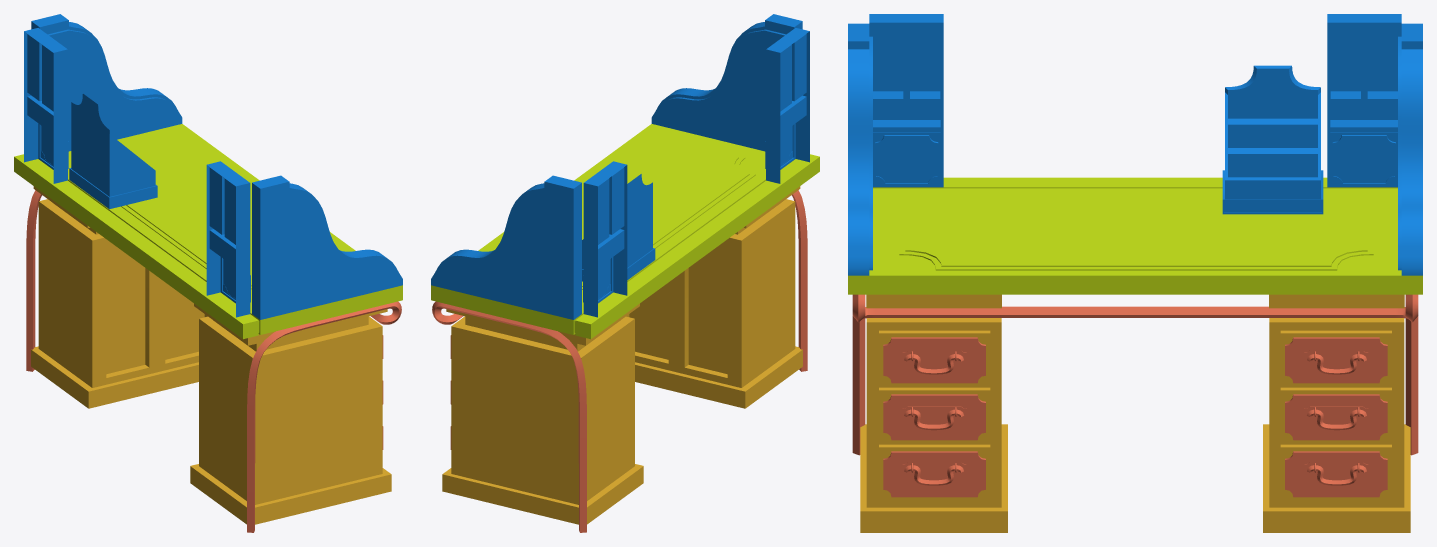
File: desk_low.fbx
3 views of the same model, side by side, from view 1: azimuth 30°, elevation 25°; view 2: azimuth 150°, elevation 25°; view 3: azimuth 270°, elevation 25° (orthographic). The views are drawn at different scales.
Parts seen in each view (by area): view 1: desk.004_low, desk.001_low, desk_low, desk.002_low, desk.008_low, desk.006_low, desk.009_low; view 2: desk.004_low, desk.001_low, desk_low, desk.002_low, desk.008_low, desk.009_low, desk.006_low; view 3: desk.004_low, desk.008_low, desk_low, desk.005_low, desk.002_low, desk.006_low, desk.001_low, desk.009_low, desk.003_low, desk.010_low, desk.007_low.
Boxes of the visible parts, x1=… form: desk.004_low: x1=31, y1=186, x2=391, y2=524; desk.001_low: x1=31, y1=14, x2=402, y2=319; desk_low: x1=14, y1=124, x2=402, y2=339; desk.002_low: x1=24, y1=28, x2=250, y2=317; desk.008_low: x1=121, y1=139, x2=346, y2=289; desk.006_low: x1=69, y1=94, x2=157, y2=209; desk.009_low: x1=26, y1=190, x2=401, y2=532; desk.004_low: x1=442, y1=186, x2=802, y2=524; desk.001_low: x1=431, y1=14, x2=802, y2=319; desk_low: x1=431, y1=124, x2=819, y2=339; desk.002_low: x1=583, y1=28, x2=809, y2=317; desk.008_low: x1=487, y1=140, x2=755, y2=289; desk.009_low: x1=432, y1=190, x2=807, y2=532; desk.006_low: x1=582, y1=174, x2=655, y2=281; desk.004_low: x1=860, y1=294, x2=1410, y2=532; desk.008_low: x1=899, y1=194, x2=1373, y2=270; desk_low: x1=848, y1=177, x2=1422, y2=294; desk.005_low: x1=883, y1=337, x2=1387, y2=497; desk.002_low: x1=869, y1=14, x2=1401, y2=187; desk.006_low: x1=1222, y1=65, x2=1323, y2=214; desk.001_low: x1=848, y1=23, x2=1422, y2=275; desk.009_low: x1=852, y1=294, x2=1418, y2=455; desk.003_low: x1=875, y1=135, x2=1395, y2=184; desk.010_low: x1=902, y1=350, x2=1368, y2=473; desk.007_low: x1=904, y1=354, x2=1366, y2=485.
Bounding box in the file's own units: 82.15 × 166 × 200.
